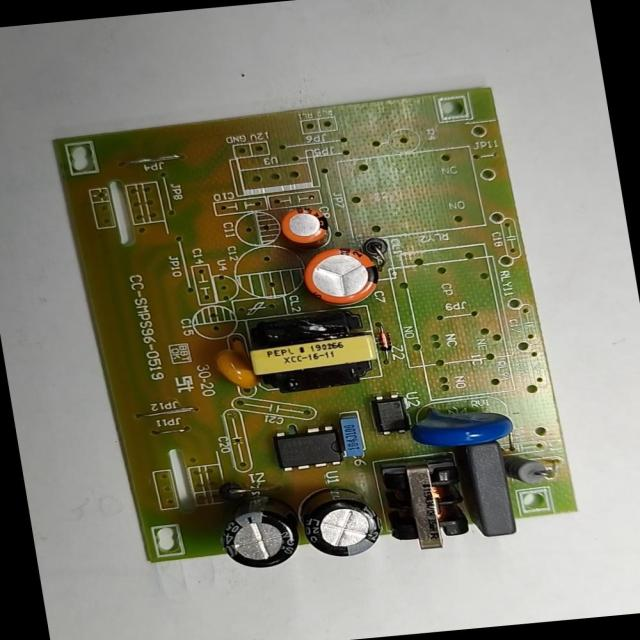Cap1: (303, 244, 384, 308)
Cap2: (277, 205, 335, 246)
Cap3: (297, 482, 389, 562)
Cap4: (215, 494, 302, 572)
MOSFET: (268, 425, 344, 473)
Mov: (408, 400, 518, 453)
Resistor: (502, 447, 557, 489)
Transformer: (242, 309, 376, 397), (378, 459, 473, 554)
